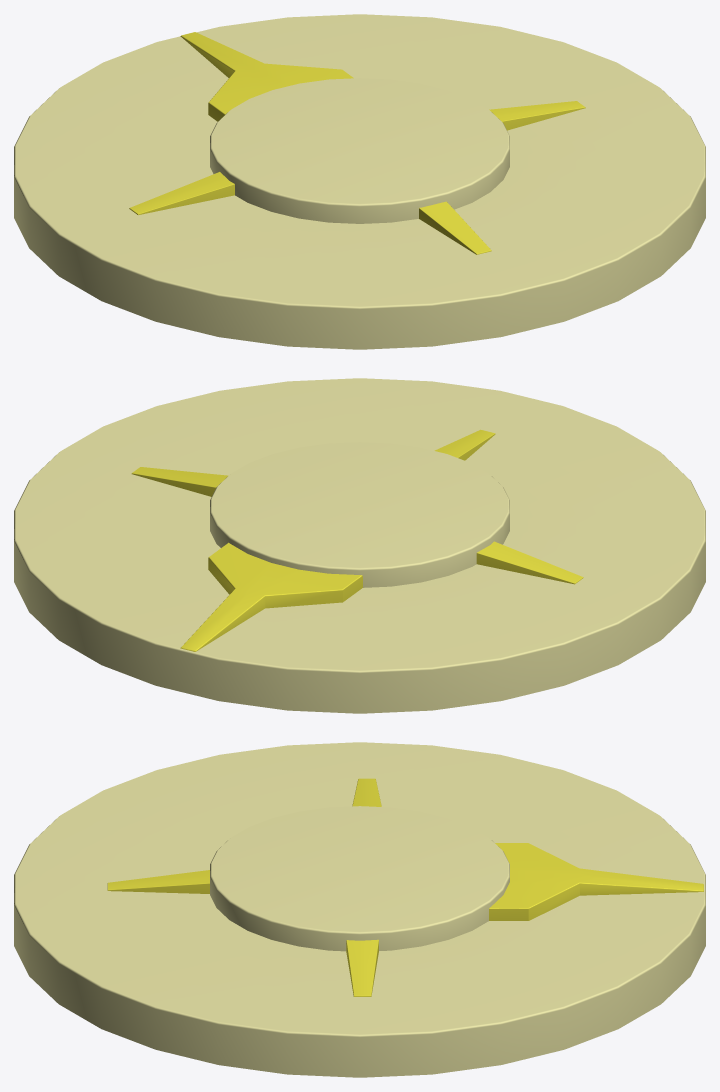
Rendered from M_Start.fbx.
3 views of the same model, one above another, from view 1: azimuth 30°, elevation 25°; view 2: azimuth 150°, elevation 25°; view 3: azimuth 270°, elevation 25° (orthographic).
Visible parts, largest first — view 1: pCylinder69; view 2: pCylinder69; view 3: pCylinder69.
Part boxes in pixels (left/top/right/bottom): pCylinder69: left=14, top=14, right=705, bottom=349; pCylinder69: left=14, top=378, right=705, bottom=713; pCylinder69: left=14, top=742, right=705, bottom=1077.
Bounding box in the file's own units: 480 × 47.11 × 478.
